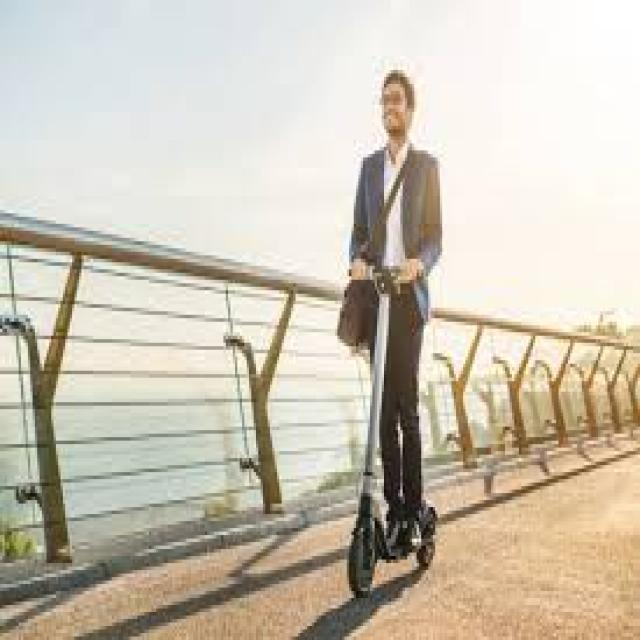non-helmet: (333, 58, 444, 608)
